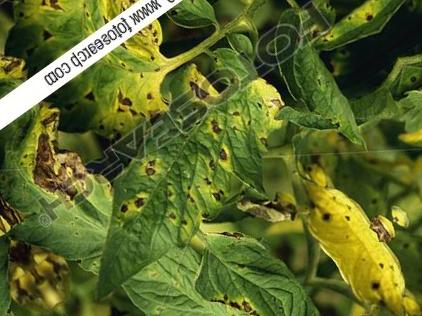Tomato Early blight leaf: (47, 59, 326, 300), (47, 26, 202, 172), (0, 99, 123, 266), (297, 154, 409, 262), (263, 0, 354, 22)
